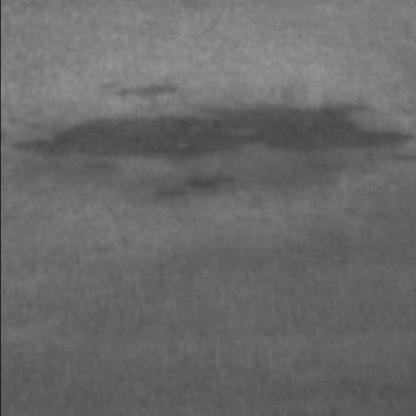inclusion: (4, 66, 410, 172), (141, 164, 237, 214)
